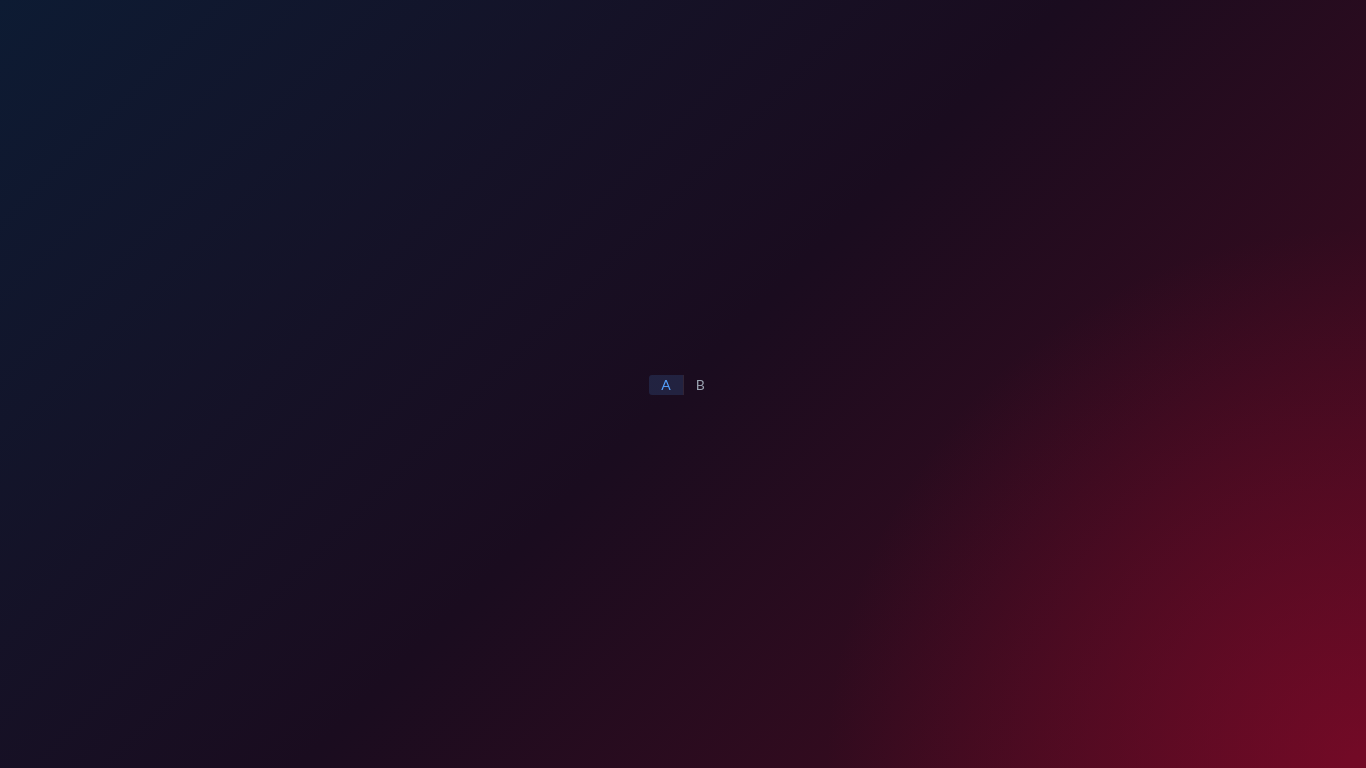
Scenario: SegmentedControl › selects with click and arrow keys, never deselects
Click the radio button labelled "A" at x=666, y=385, box [649,375,683,395]
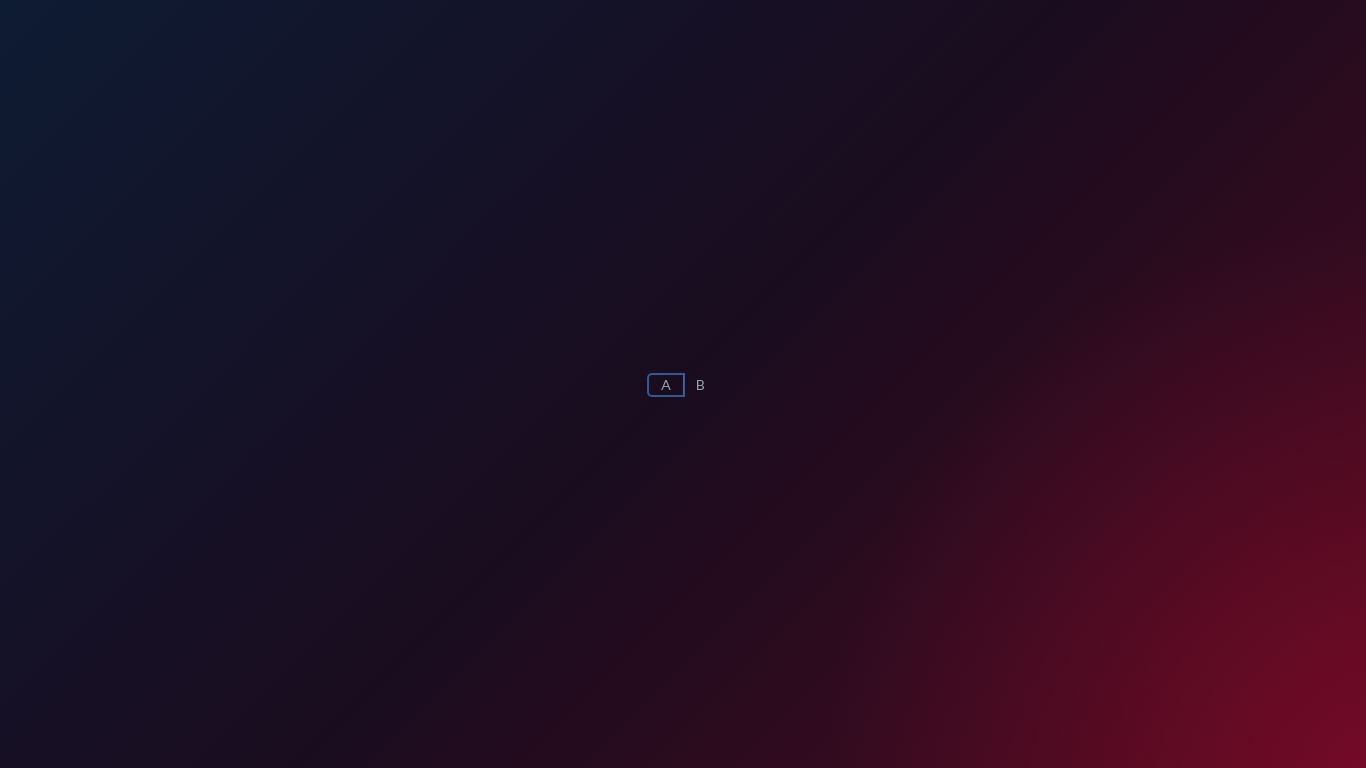
Click the radio button labelled "B" at x=700, y=385, box [683,375,717,395]
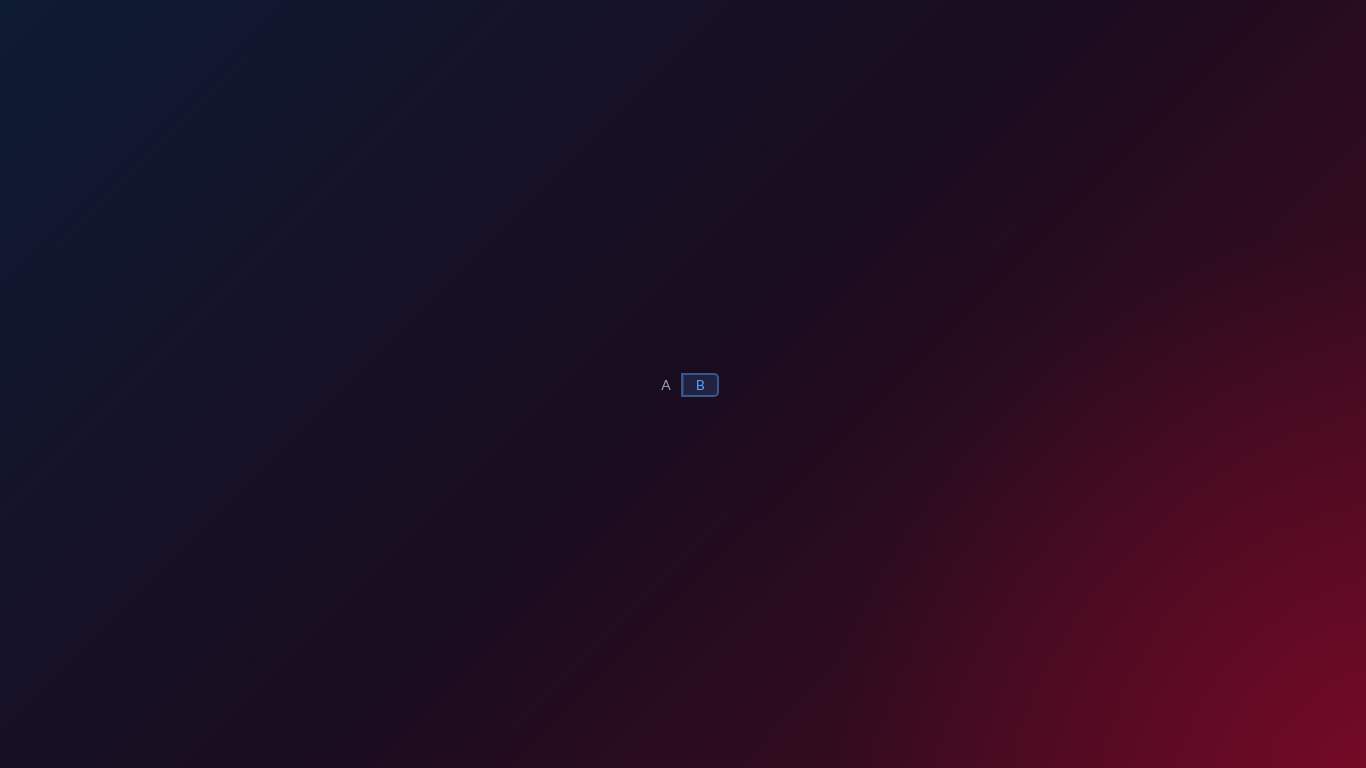
Expected: the radio button labelled "B" is checked, [683,375,717,395]
